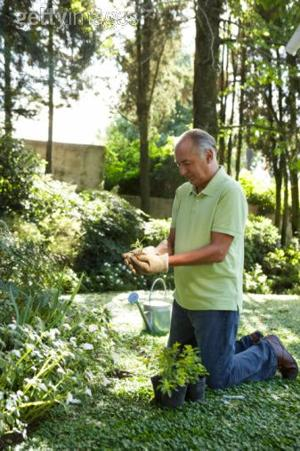person: (123, 129, 299, 391)
